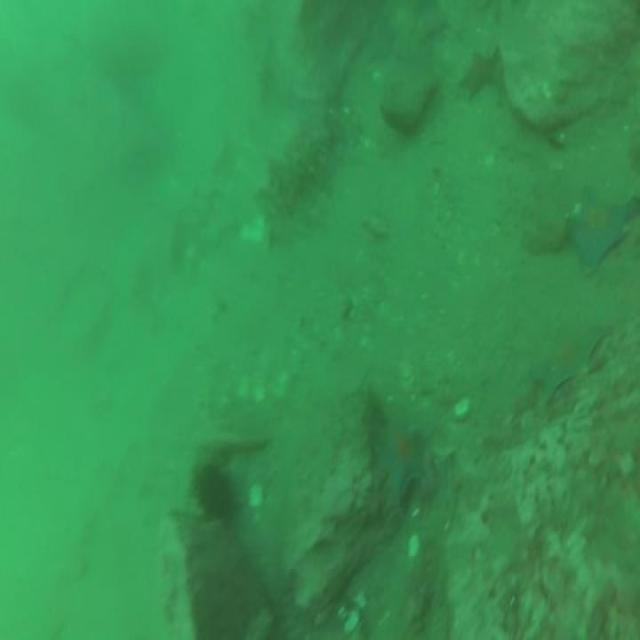echinus: (182, 457, 244, 539)
holothurian: (264, 118, 344, 220)
starfish: (527, 316, 611, 400), (564, 177, 633, 278), (367, 409, 428, 515), (455, 44, 502, 108), (364, 3, 400, 70)
